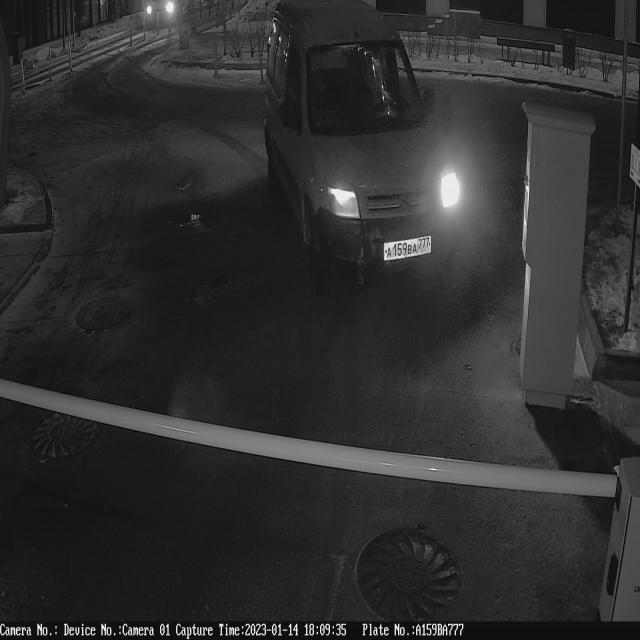car-plate-numbers: (380, 234, 436, 270)
